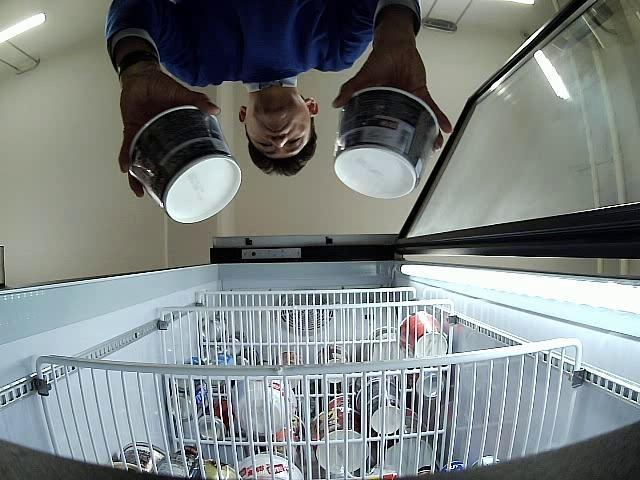07_buldak_L: (128, 106, 242, 222), (334, 88, 440, 198)
